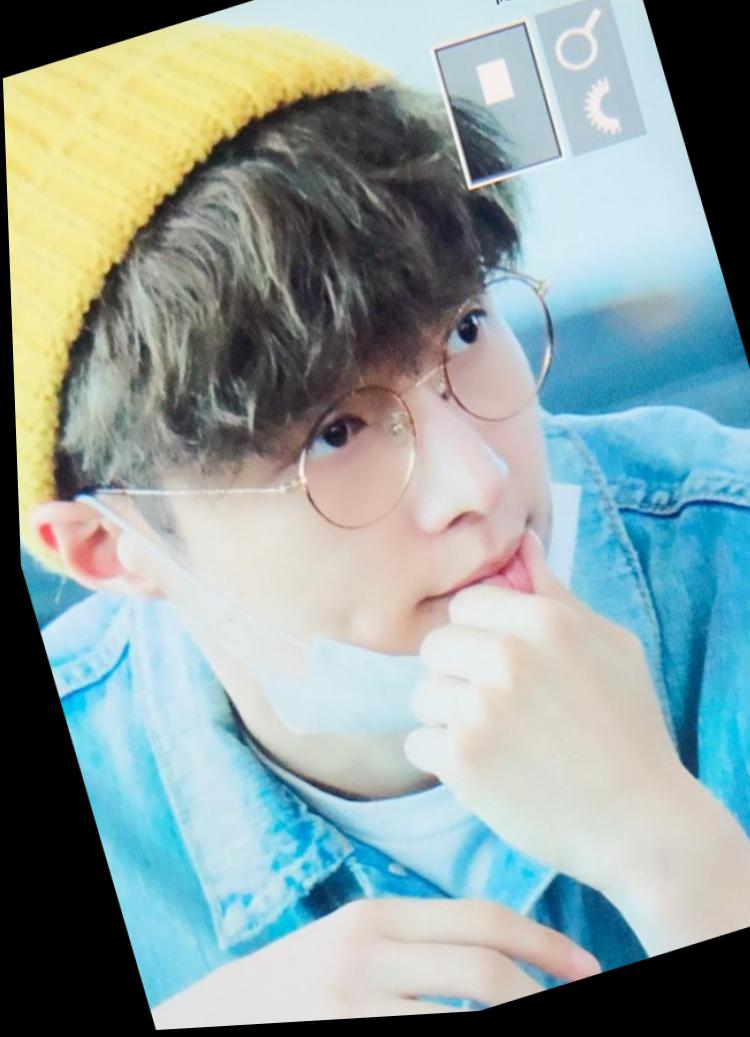WRONG: (109, 253, 614, 792)
